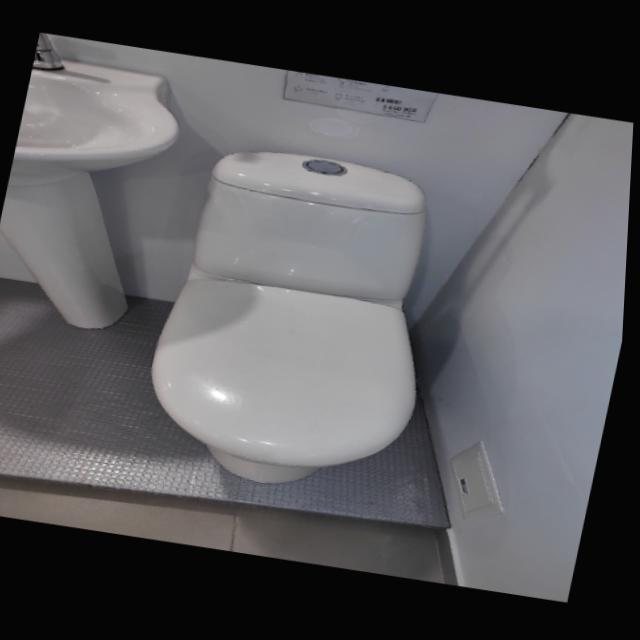toilet: (132, 136, 467, 506)
